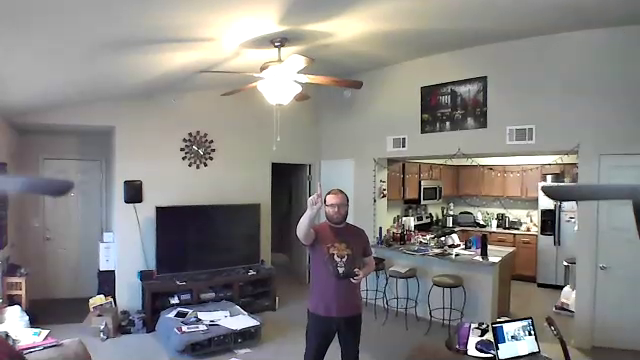up: (305, 182, 324, 210)
